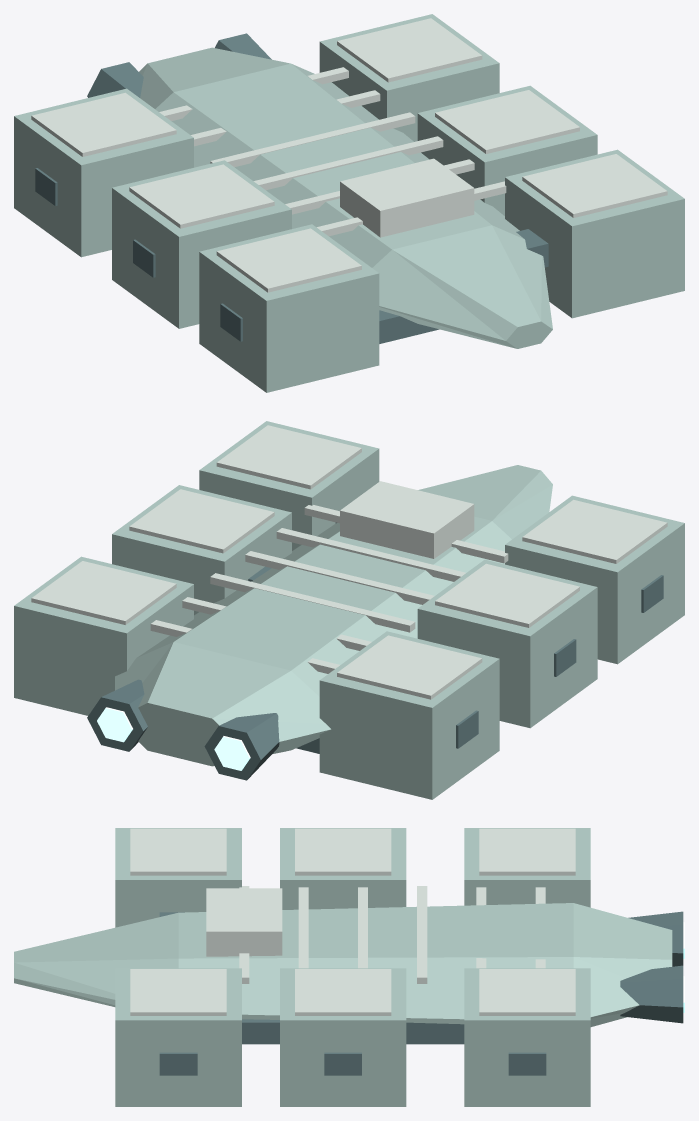
3 views of the same model, one above another, from view 1: azimuth 30°, elevation 25°; view 2: azimuth 150°, elevation 25°; view 3: azimuth 270°, elevation 25° (orthographic). The views are drawn at different scales.
Size of the model in its own units: 7.78 by 1.88 by 11.34.
